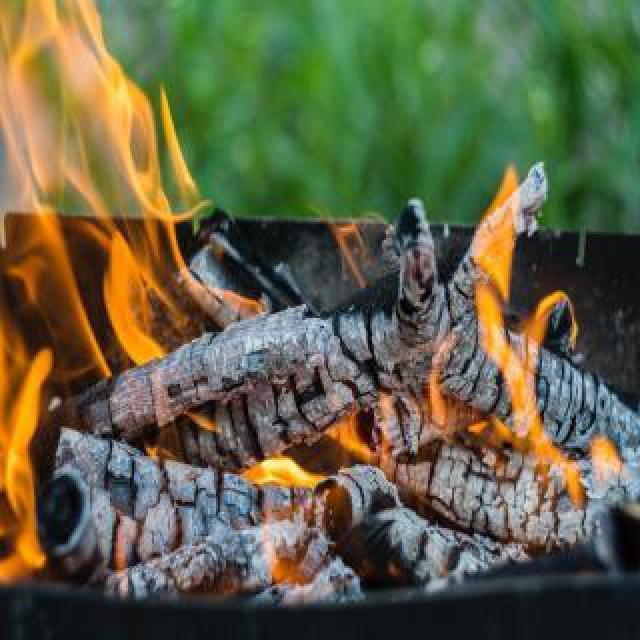Fire: (6, 10, 179, 346), (481, 207, 621, 487), (0, 346, 55, 578), (400, 337, 455, 422), (246, 456, 318, 493), (104, 517, 137, 589), (324, 416, 381, 457), (265, 539, 313, 584), (332, 216, 365, 270)
Smoke: (288, 234, 341, 312)
